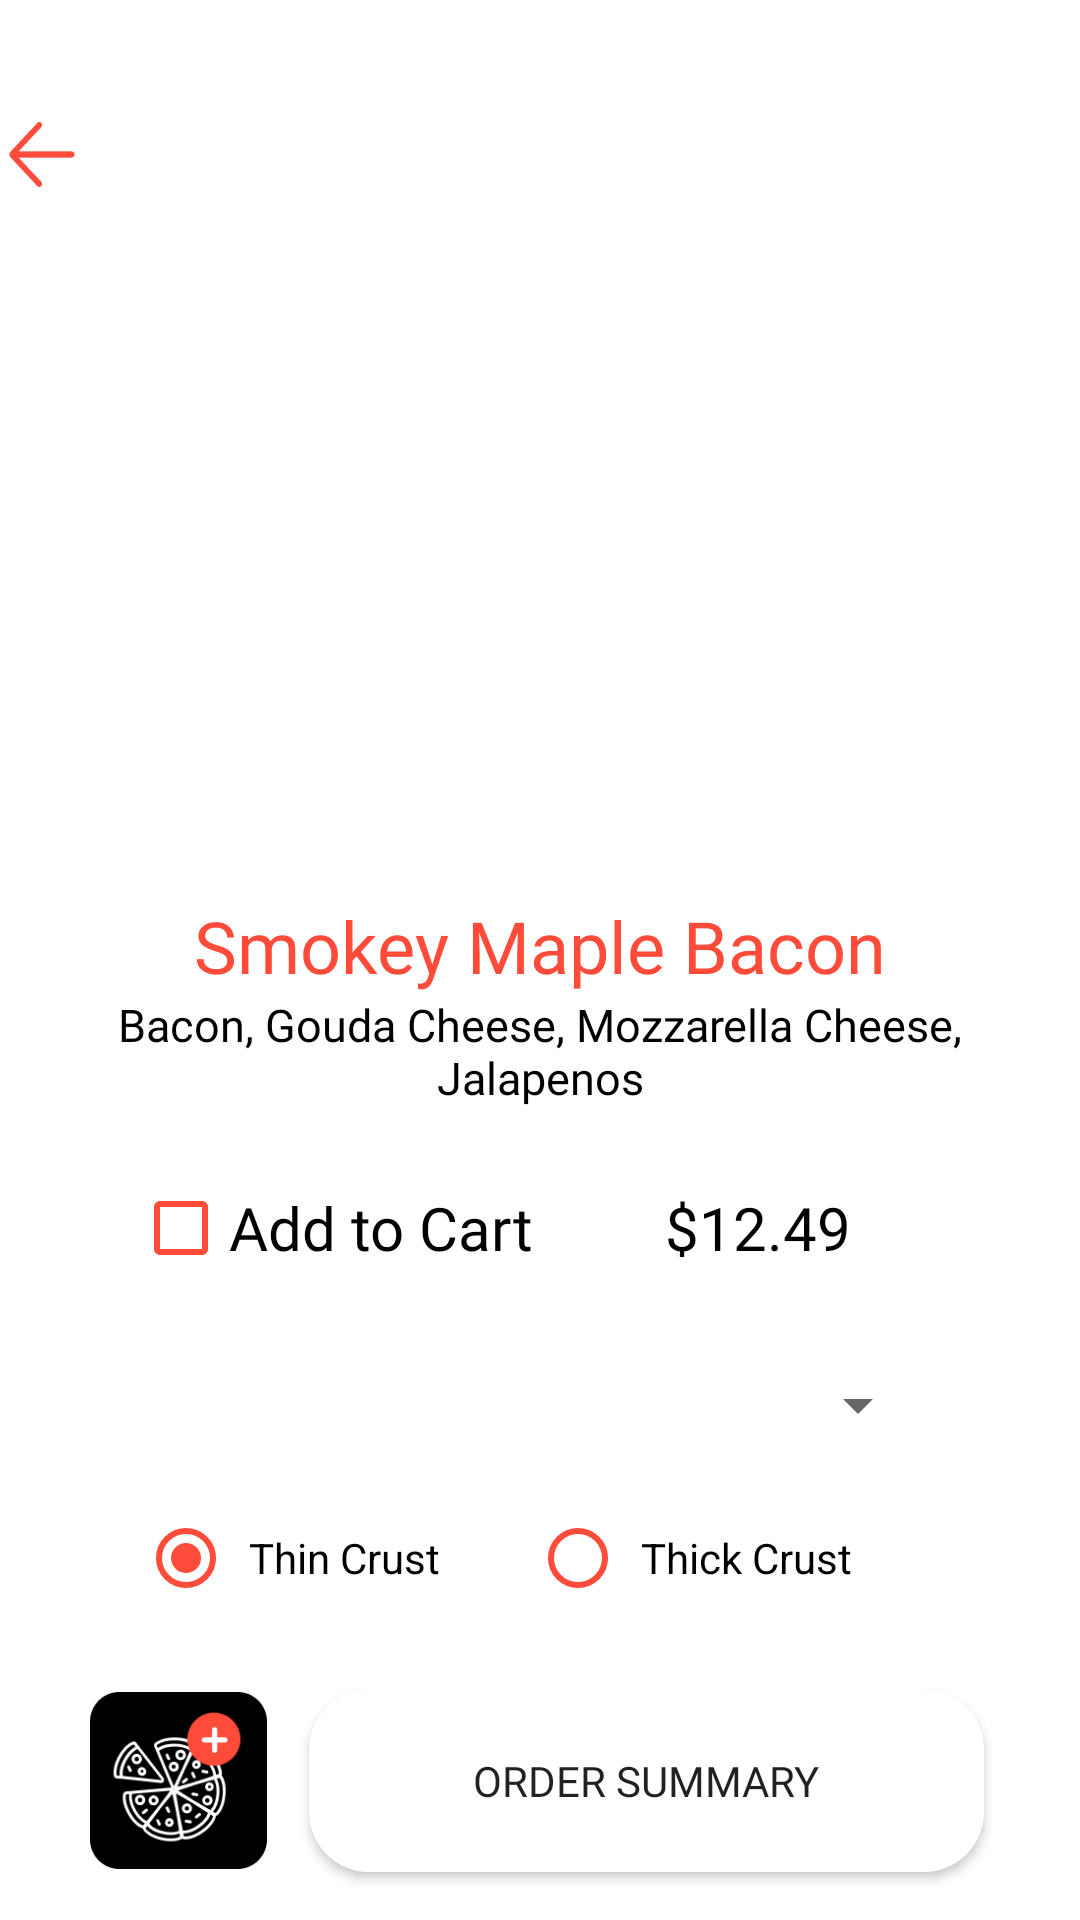

Icon bounding boxes for this 1080px x 1920px phone screenshot, format [left=x1, top=y1, right=x2, bottom=y2]:
Add another pizza button: [left=90, top=1692, right=267, bottom=1869]
